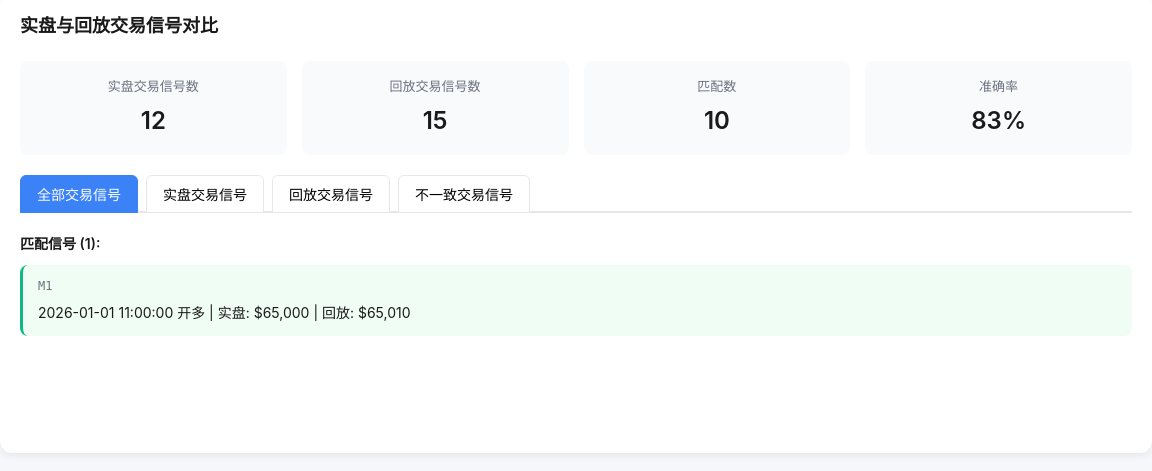
Test: ComparisonReport › should show the mismatch empty state on the 不一致 tab when nothing differs
Click the button with class "tab-btn" showing "不一致交易信号".
click(464, 194)  # box [398, 175, 530, 213]
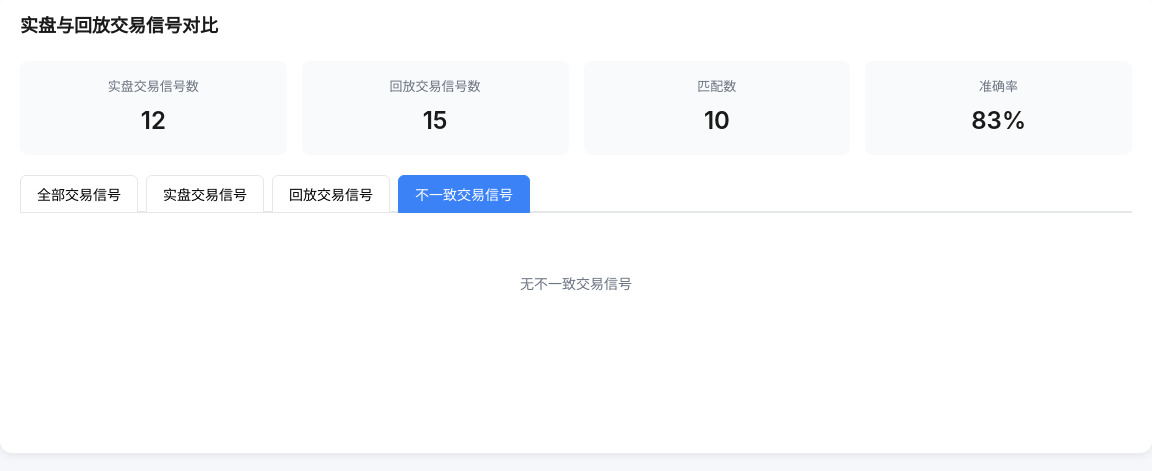
Check: the text "无不一致交易信号" is shown, box [520, 275, 632, 292]
